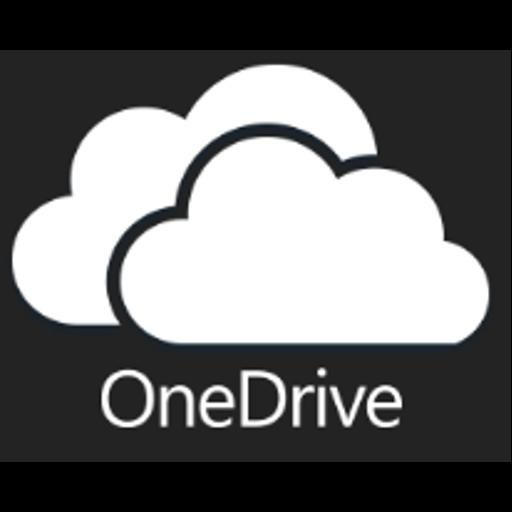Outlook: (0, 50, 511, 462)
